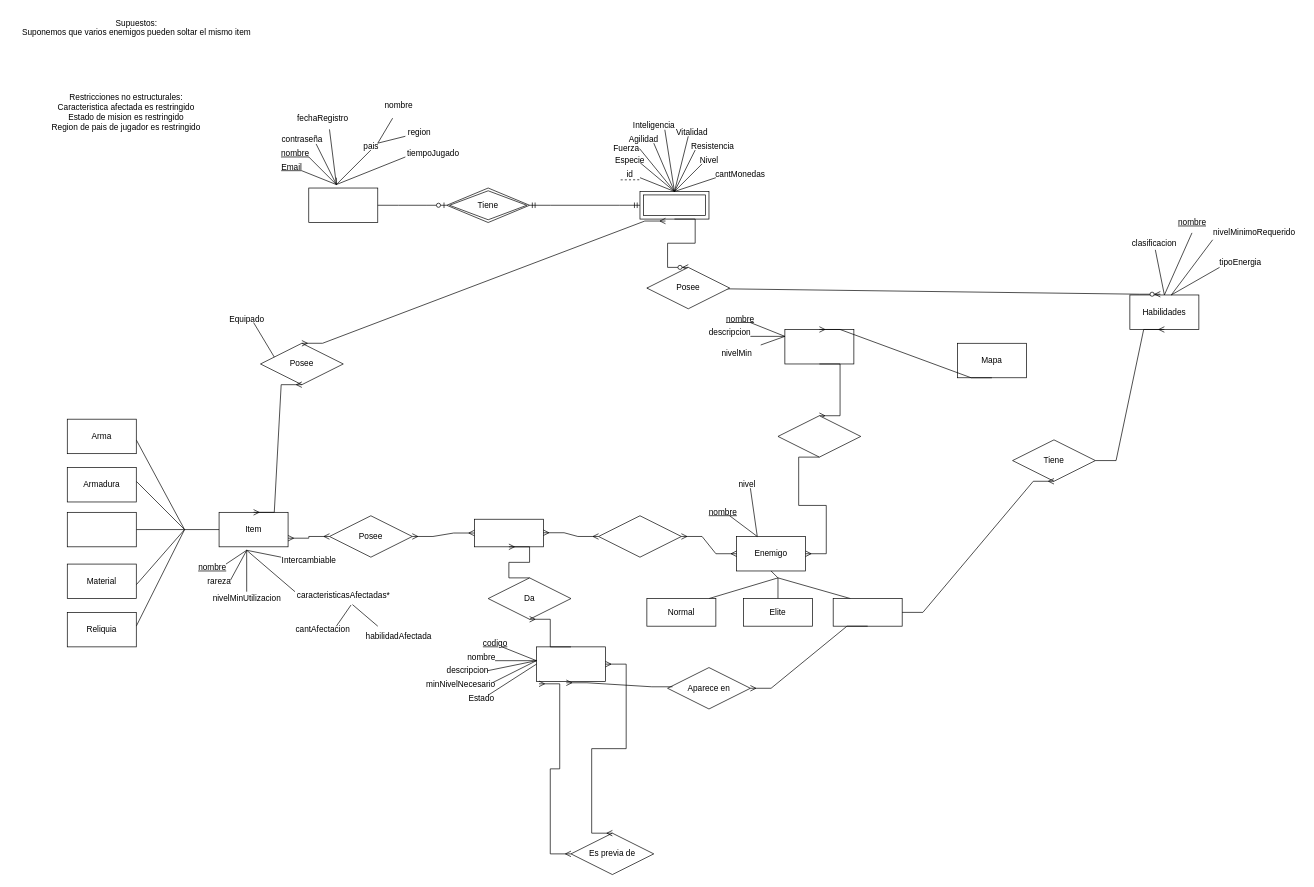
The diagram is 1314 pixels wide and 887 high, and some of its shapes have lost their labels. The shapes that lost their labels are listed below. From the top down, each one's centre as x and y in pixels, then its label:
At pixel 343 205: "Jugador".
At pixel 674 205: "Personaje".
At pixel 819 346: "Zona".
At pixel 819 436: "Habita".
At pixel 101 529: "Consumible".
At pixel 508 533: "Recompensa".
At pixel 639 536: "Deja".
At pixel 867 612: "Jefe".
At pixel 570 663: "Misiones".
